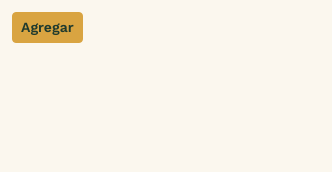
Simulación de eventos (carrito) › un clic en "Agregar" ejecuta agregarAlCarrito y deja el producto en el carrito
The width and height of the screenshot is (332, 172).
Click the button "Agregar": (47, 28) [12,12,83,43]
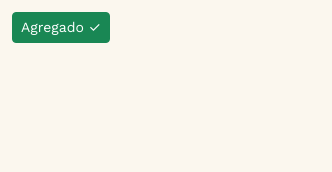
Now the button reads "Agregado ✓", box [12,12,110,43]
